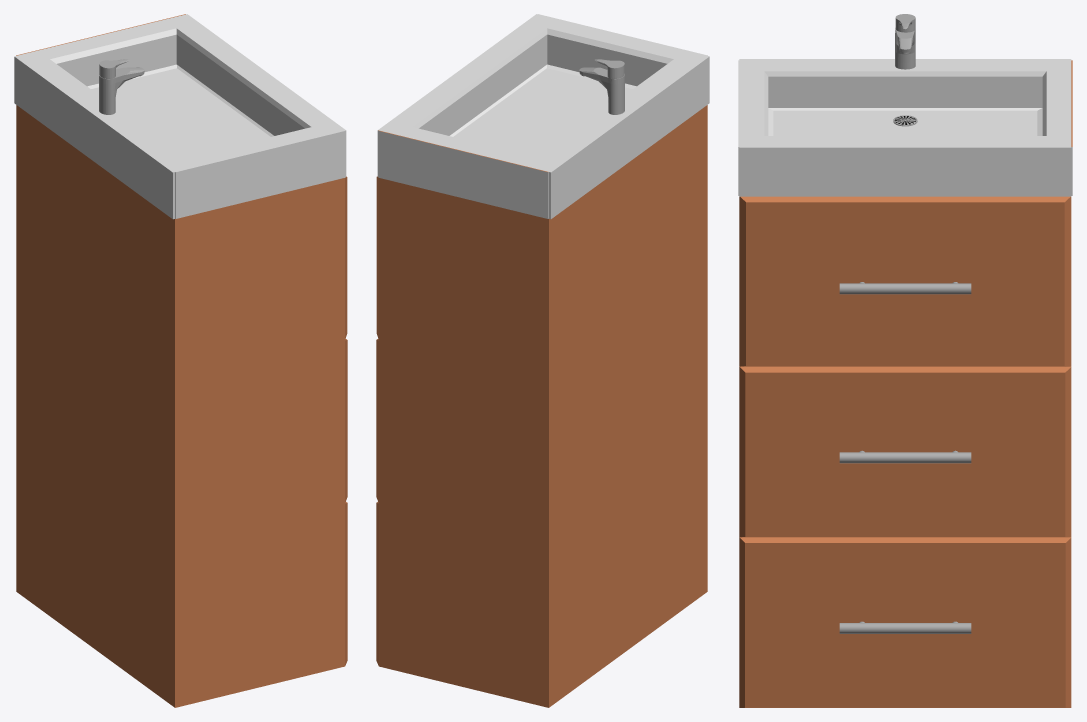
File: sink.fbx
3 renders of one model, left to right at view 1: azimuth 30°, elevation 25°; view 2: azimuth 150°, elevation 25°; view 3: azimuth 270°, elevation 25°, orthographic. The views are drawn at different scales.
Visible parts, largest first — view 1: sink1; view 2: sink1; view 3: sink1.
Boxes of the visible parts, x1=… form: sink1: x1=14, y1=14, x2=347, y2=707; sink1: x1=376, y1=14, x2=709, y2=707; sink1: x1=738, y1=28, x2=1072, y2=707.
Bounding box in the file's own units: 203 × 596 × 296.
